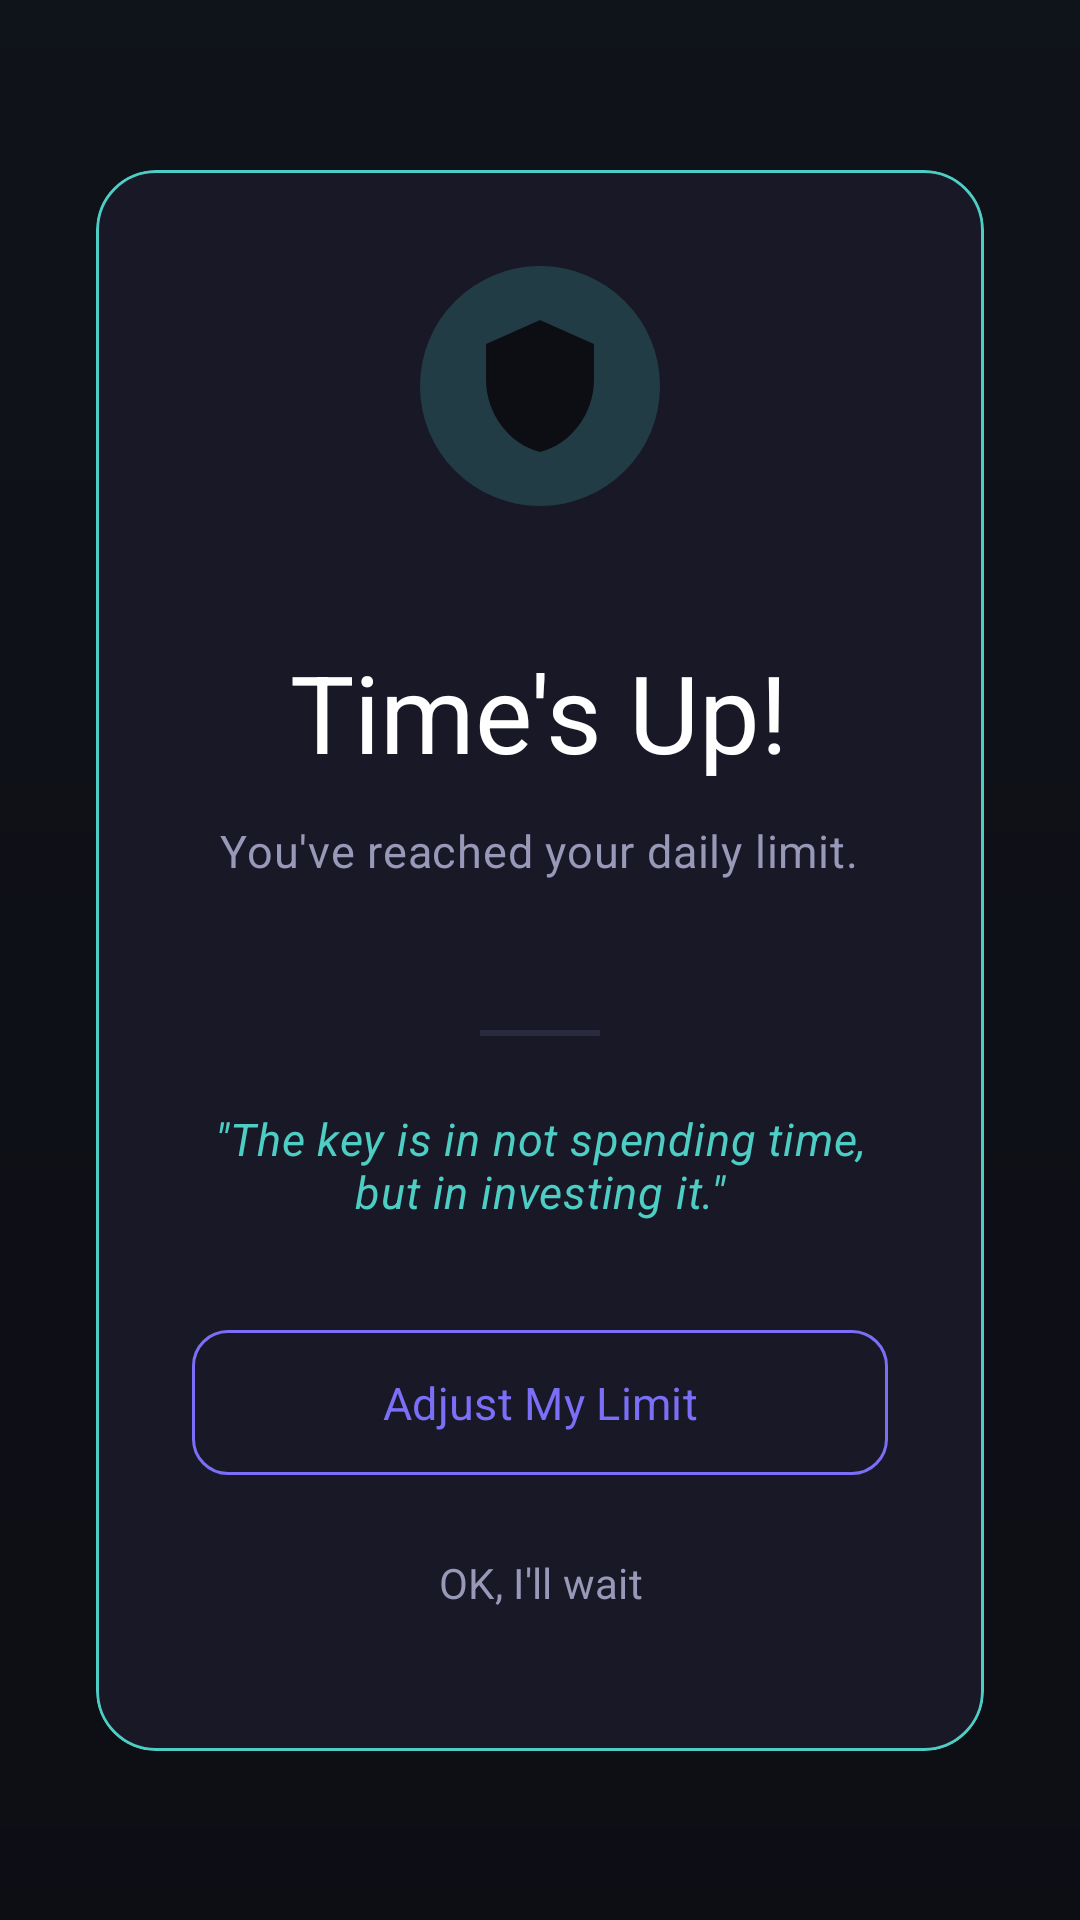

Point at icon controls on the screen. Image size 1080 x 1920, points as point (x, y).
shield: point (540, 386)
